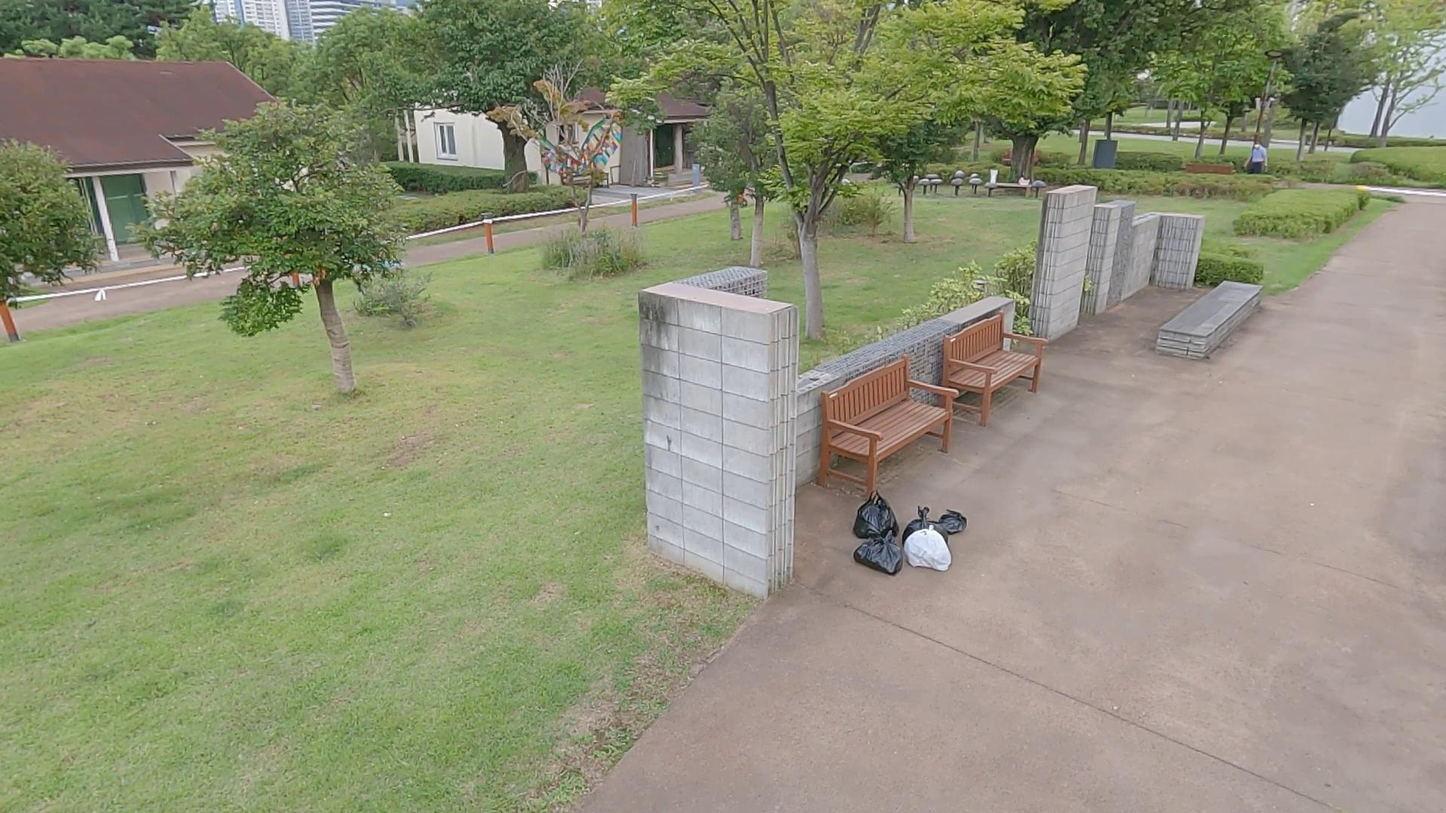person: (1244, 142, 1269, 174)
trash: (903, 523, 954, 573), (852, 487, 900, 540), (852, 531, 903, 579), (902, 503, 948, 553), (938, 507, 968, 535)
